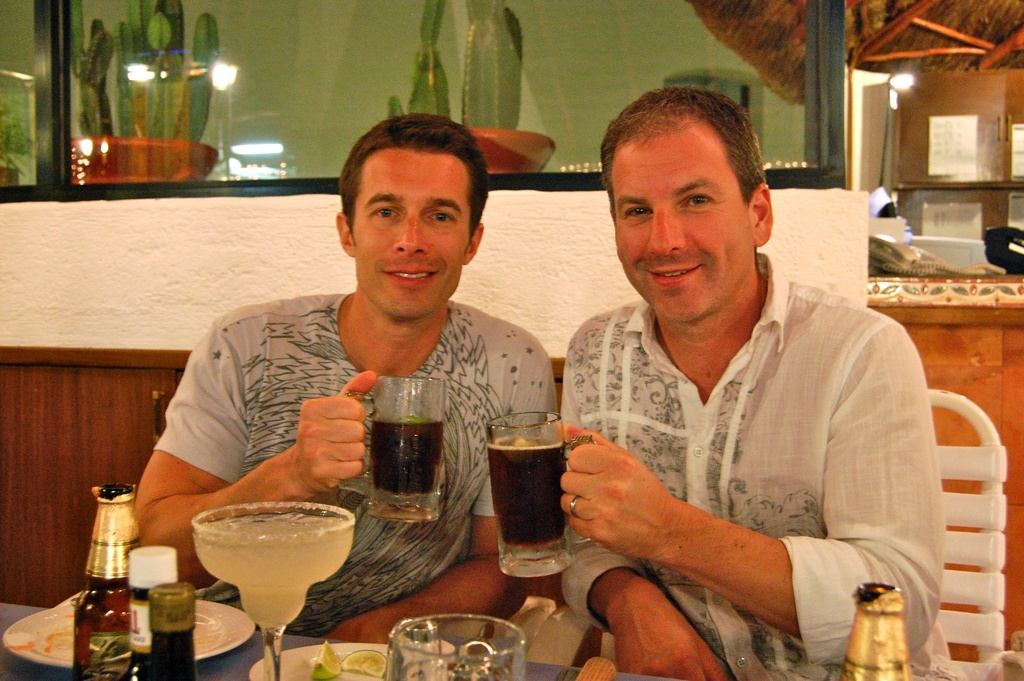Beer: (74, 487, 133, 675), (494, 416, 571, 537), (833, 587, 911, 680), (366, 412, 437, 503)
